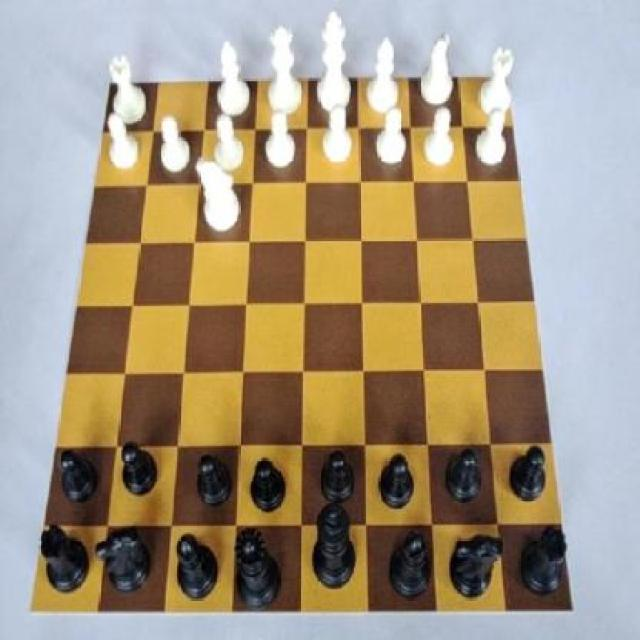bishop: (166, 534, 224, 614), (382, 531, 436, 606)
black-bishop: (308, 500, 360, 600)
black-king: (92, 518, 157, 602), (446, 531, 507, 612)
black-knight: (505, 438, 553, 512), (188, 448, 238, 517), (372, 448, 417, 524), (117, 435, 168, 501), (54, 446, 101, 516), (442, 438, 486, 511), (315, 442, 360, 512), (246, 451, 288, 520)
black-pawn: (229, 517, 288, 614)
black-queen: (516, 520, 574, 606), (34, 524, 92, 604)
black-rook: (211, 35, 257, 118), (363, 37, 405, 117)
white-bishop: (314, 5, 354, 124)
white-king: (188, 154, 245, 238), (412, 28, 457, 115)
white-knight: (468, 101, 513, 178), (151, 110, 195, 184), (316, 102, 360, 174), (256, 108, 302, 175), (418, 100, 459, 175), (103, 109, 143, 181), (368, 108, 410, 170), (209, 110, 247, 178)
white-pawn: (263, 14, 306, 124)
white-queen: (105, 52, 150, 130), (474, 43, 518, 119)
